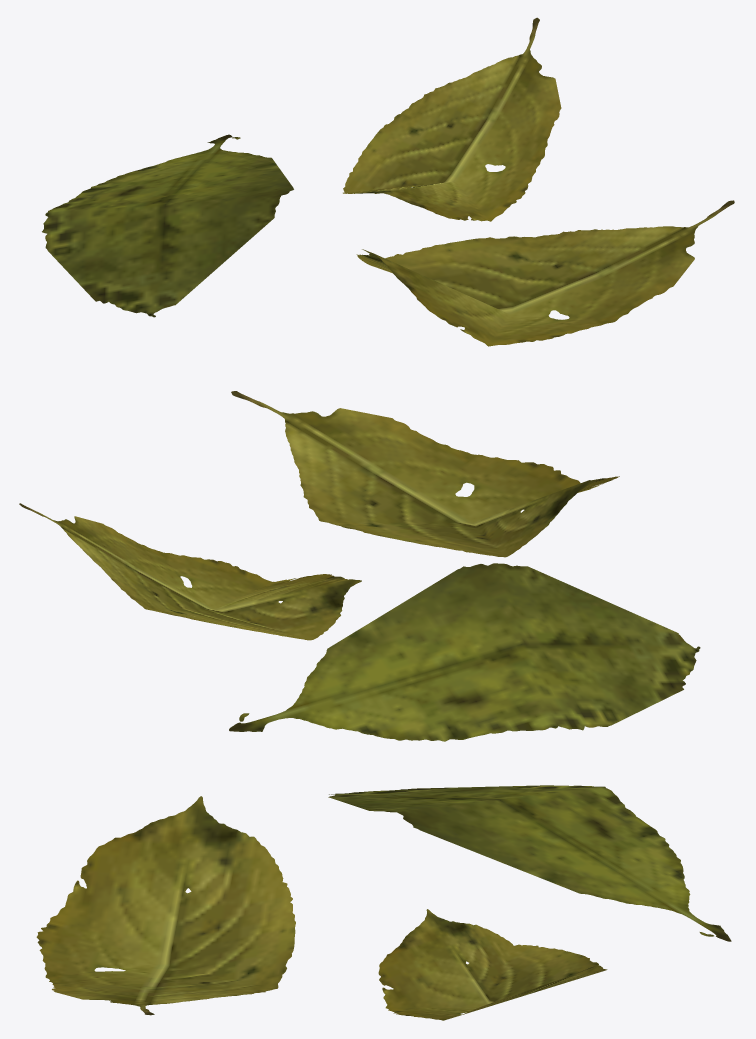
File: Leaf1.fbx
The picture shows the model from 3 angles, top to bottom: view 1: azimuth 30°, elevation 25°; view 2: azimuth 150°, elevation 25°; view 3: azimuth 270°, elevation 25°; orthographic projection. The views are drawn at different scales.
Visible parts, largest first — view 1: SM_cmn_mount_Leaf_01a; view 2: SM_cmn_mount_Leaf_01a; view 3: SM_cmn_mount_Leaf_01a.
Part boxes in pixels (box(x1,y1,x2,y2)): SM_cmn_mount_Leaf_01a: box(42, 17, 734, 346); SM_cmn_mount_Leaf_01a: box(19, 391, 700, 741); SM_cmn_mount_Leaf_01a: box(36, 785, 731, 1020).
Bounding box in the file's own units: 21.96 × 4.23 × 22.59.
